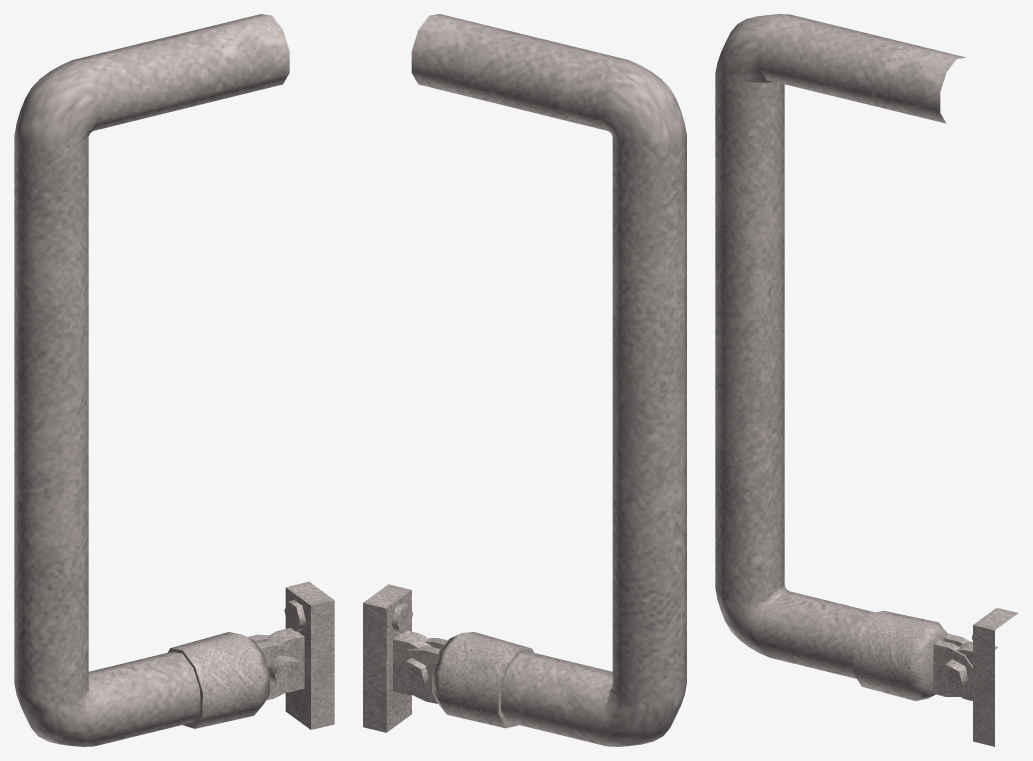
File: SM_Railing_01g.glb
The picture shows the model from 3 angles, left to right: view 1: azimuth 30°, elevation 25°; view 2: azimuth 150°, elevation 25°; view 3: azimuth 330°, elevation 25°; orthographic projection. The views are drawn at different scales.
Visible parts, largest first — view 1: SM_Railing_01g; view 2: SM_Railing_01g; view 3: SM_Railing_01g.
Boxes of the visible parts, <box> form: SM_Railing_01g: <box>14,14,334,746</box>; SM_Railing_01g: <box>363,14,686,746</box>; SM_Railing_01g: <box>715,14,1018,746</box>.
Size of the model in its own units: 0.2587 by 0.5793 by 0.0621.
1 material, 1 textured.
